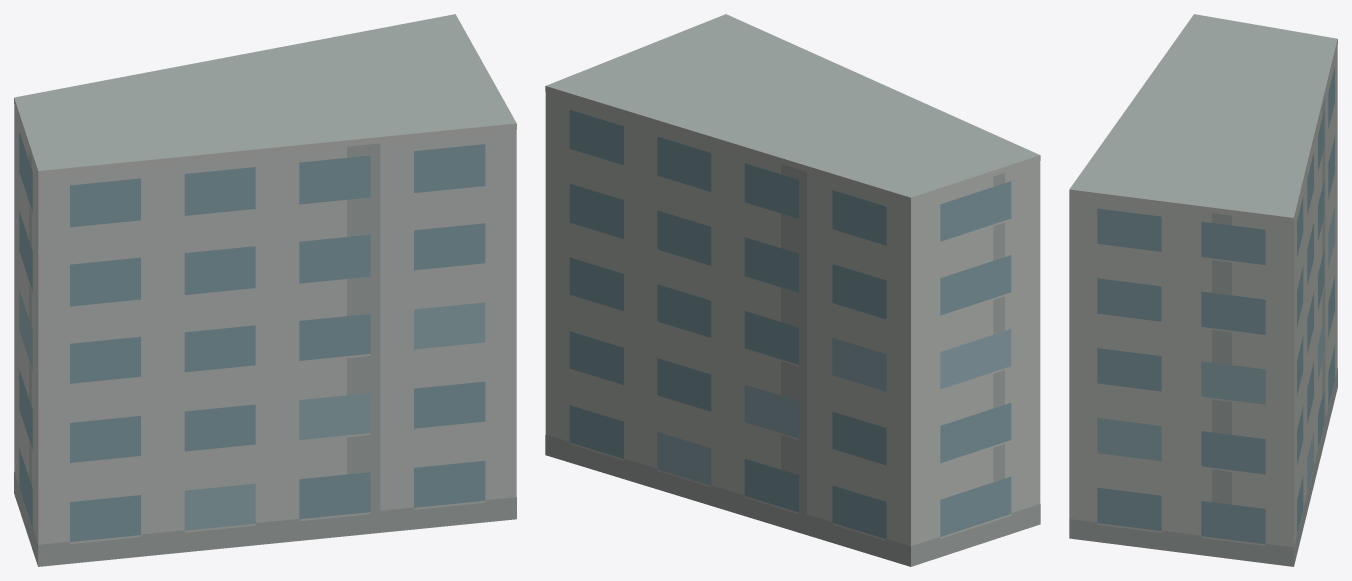
Rendered from residential-2ce01afb-5279-4689-8cd3-865c5110b92a.glb.
3 views of the same model, side by side, from view 1: azimuth 30°, elevation 25°; view 2: azimuth 150°, elevation 25°; view 3: azimuth 270°, elevation 25° (orthographic). The views are drawn at different scales.
Parts seen in each view (by area): view 1: residential-2ce01afb-5279-4689-8cd3-865c5110b92a.tmp; view 2: residential-2ce01afb-5279-4689-8cd3-865c5110b92a.tmp; view 3: residential-2ce01afb-5279-4689-8cd3-865c5110b92a.tmp.
Part boxes in pixels (x1=…): residential-2ce01afb-5279-4689-8cd3-865c5110b92a.tmp: x1=14, y1=14, x2=516, y2=566; residential-2ce01afb-5279-4689-8cd3-865c5110b92a.tmp: x1=545, y1=14, x2=1040, y2=566; residential-2ce01afb-5279-4689-8cd3-865c5110b92a.tmp: x1=1069, y1=14, x2=1337, y2=566.
Bounding box in the file's own units: 19.12 × 15.25 × 10.64.
